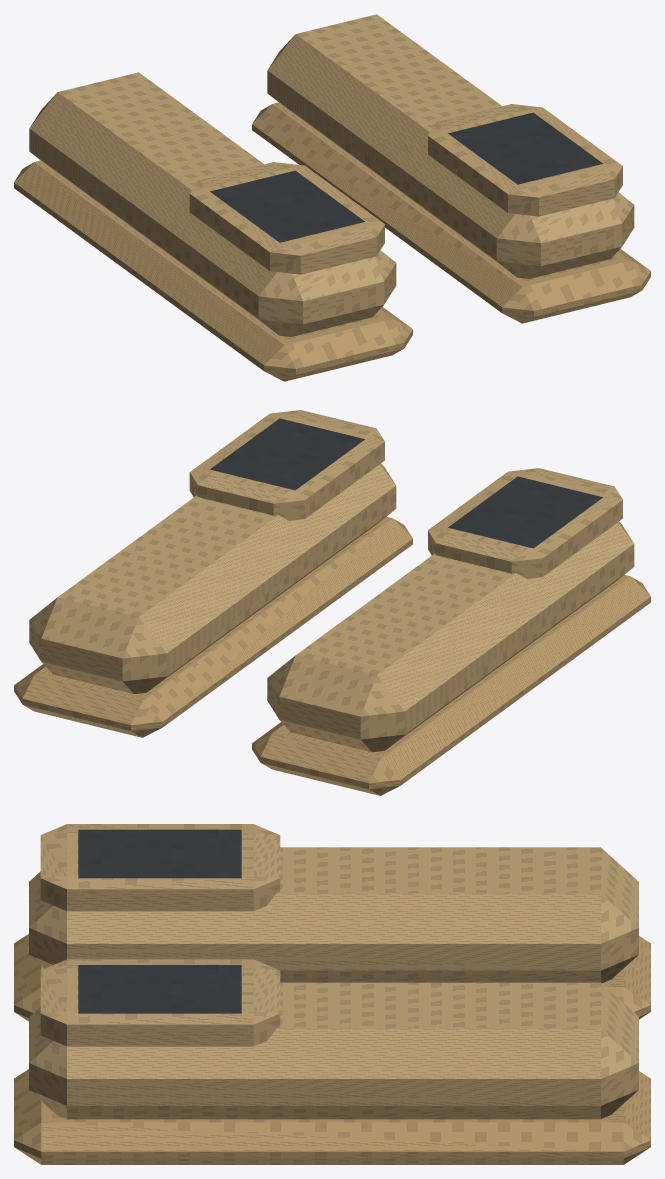
File: espadrilles.glb
The picture shows the model from 3 angles, top to bottom: view 1: azimuth 30°, elevation 25°; view 2: azimuth 150°, elevation 25°; view 3: azimuth 270°, elevation 25°; orthographic projection. The views are drawn at different scales.
Visible parts, largest first — view 1: block_stitched vamp (×2), block_shaped sole (×2), block_open ankle (×2), block_insole opening (×2); view 2: block_stitched vamp (×2), block_shaped sole (×2), block_open ankle (×2), block_insole opening (×2); view 3: block_stitched vamp (×2), block_shaped sole (×2), block_open ankle (×2), block_insole opening (×2).
Part boxes in pixels (<box>): block_stitched vamp (×2): <box>29,14,634,336</box>; block_shaped sole (×2): <box>14,102,650,381</box>; block_open ankle (×2): <box>189,104,622,274</box>; block_insole opening (×2): <box>210,112,602,242</box>; block_stitched vamp (×2): <box>29,463,634,752</box>; block_shaped sole (×2): <box>14,516,650,795</box>; block_open ankle (×2): <box>189,410,622,578</box>; block_insole opening (×2): <box>210,418,602,548</box>; block_stitched vamp (×2): <box>29,847,638,1119</box>; block_shaped sole (×2): <box>14,934,650,1164</box>; block_open ankle (×2): <box>40,824,280,1046</box>; block_insole opening (×2): <box>78,829,241,1013</box>.
Size of the model in its own units: 0.1998 by 0.0614 by 0.2446.
1 material, 1 textured.
